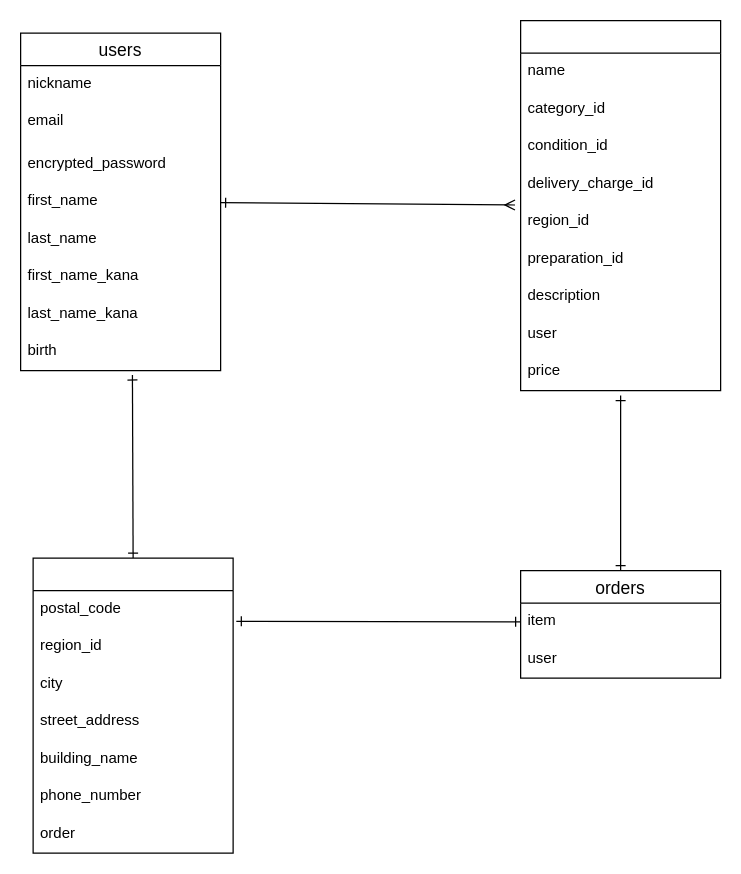
Some shapes in this 741 by 874 pixel diagram are drawn without their labels. Each missing label, with the box of its shape:
addresses: (32, 557, 233, 853)
items: (519, 19, 721, 391)
